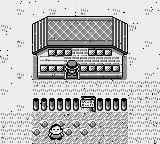leer: (81, 96, 96, 112)
main: (65, 60, 79, 77)
no-caminable: (32, 16, 128, 79), (32, 97, 80, 111), (97, 97, 127, 111)
npc: (48, 124, 64, 141)
